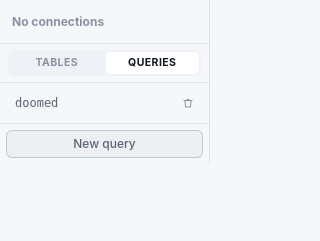
Test case: ConnectionRail › keeps the query, its tab and an error message when the delete fails
The width and height of the screenshot is (320, 241).
Expected: the button "doomed" is shown, x1=15 y1=95 x2=174 y2=111
Click the button named "Delete query doomed".
click(188, 103)  # box x1=182 y1=97 x2=194 y2=109
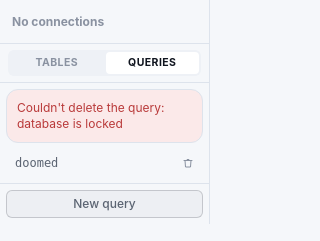
Expected: the button "doomed" is shown, x1=15 y1=155 x2=174 y2=171
Now the text "Couldn't delete the query: database is locked" is shown, box x1=6 y1=89 x2=203 y2=143
